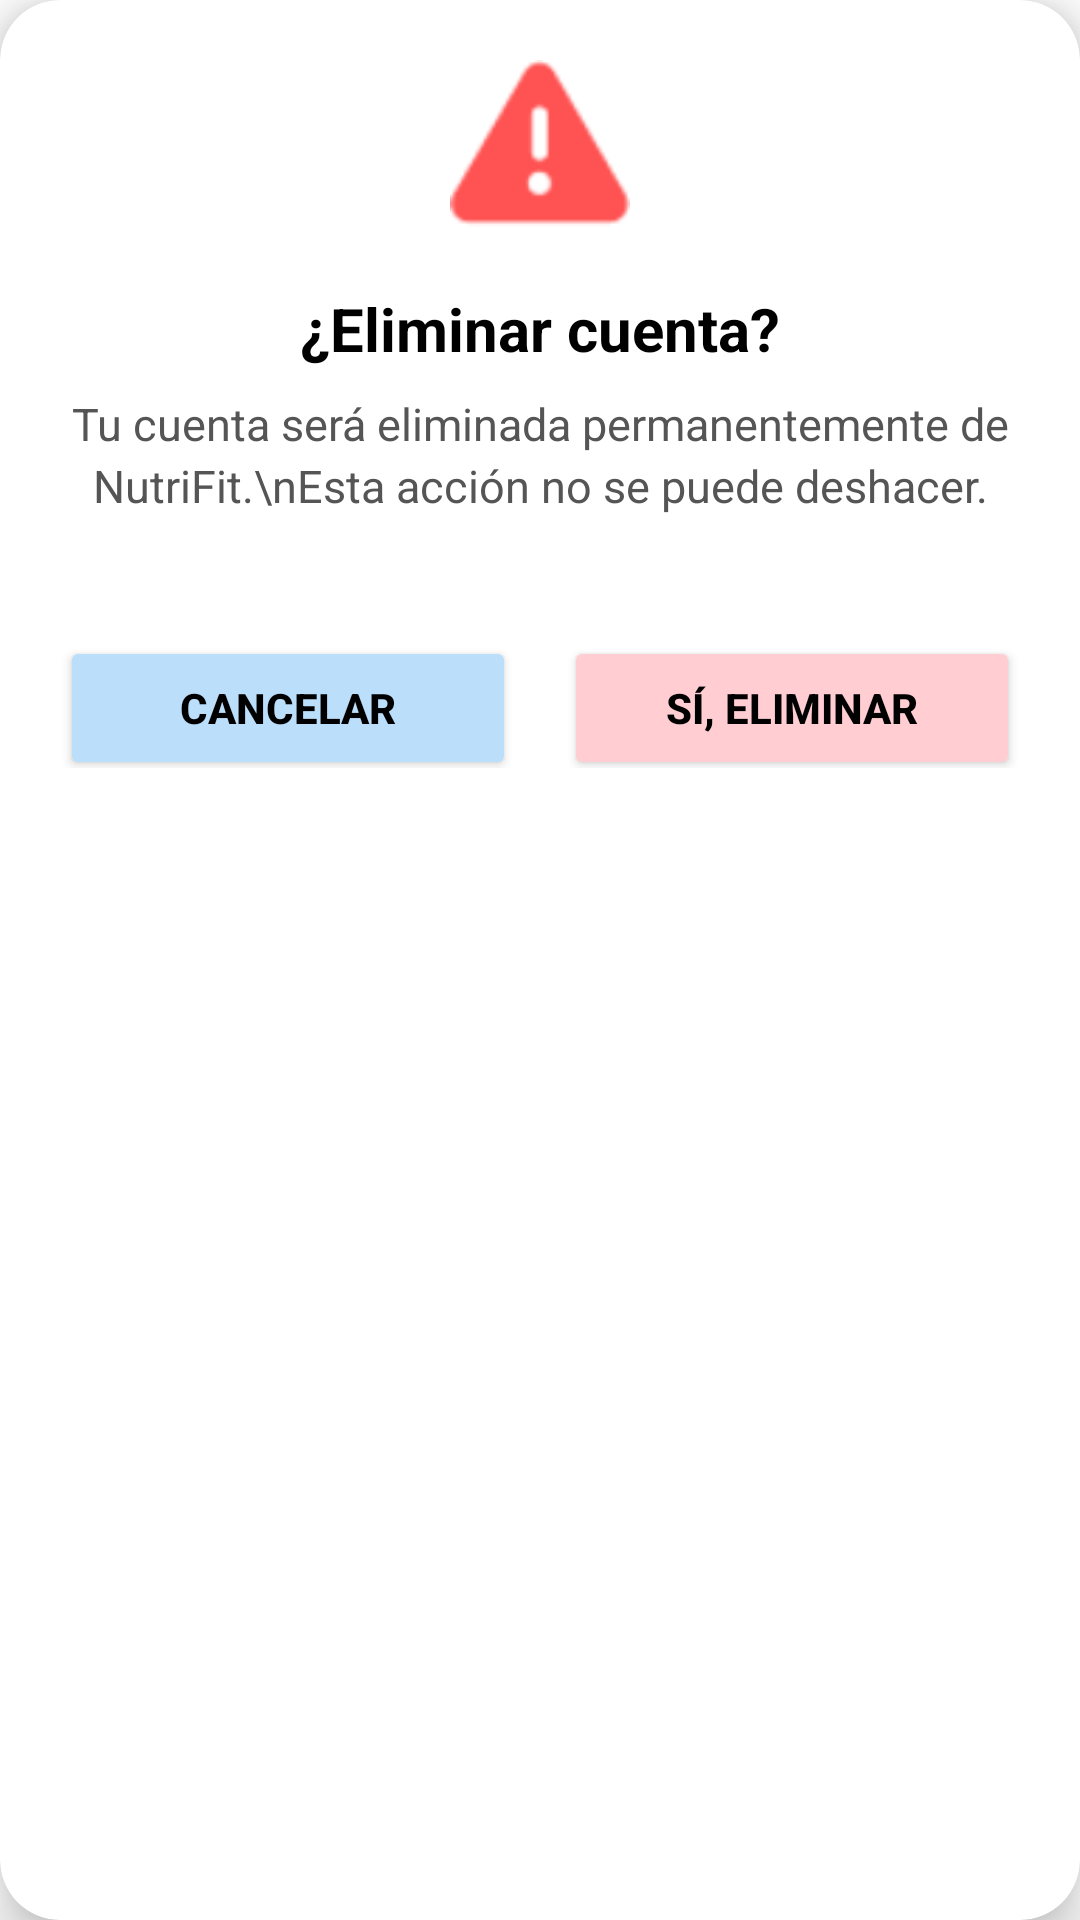

Icons on this 1080w x 1920h Android screen, each with the point to tap as (x=x, y=y):
alert: (x=540, y=142)
